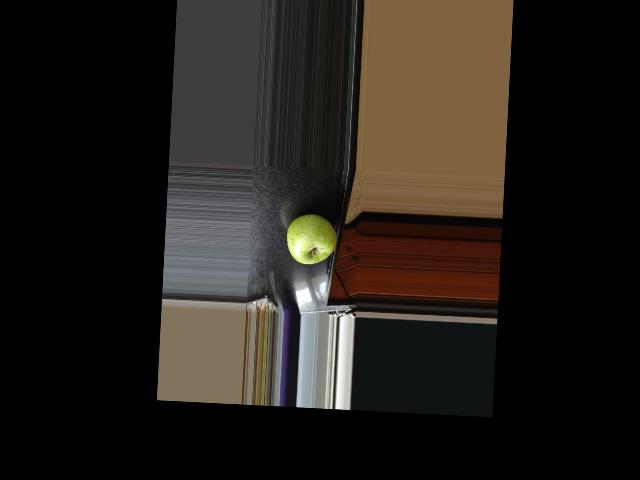apple: (282, 209, 339, 268)
